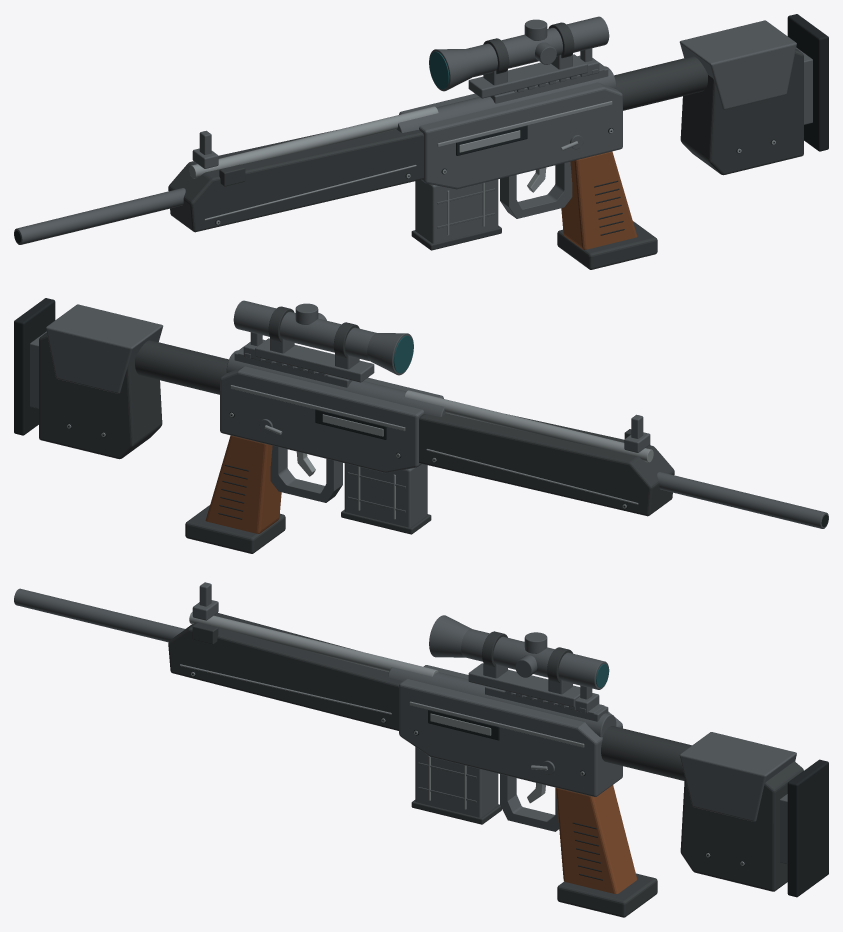
File: psg1.glb
3 renders of one model, top to bottom at view 1: azimuth 30°, elevation 25°; view 2: azimuth 150°, elevation 25°; view 3: azimuth 330°, elevation 25°, orthographic.
Visible parts, largest first — view 1: part_stock_surfaces, part_body_surfaces, part_handguard_surfaces, part_grip_surfaces, part_optic_surfaces, part_details_surfaces, part_magazine_surfaces, part_barrel_surfaces, part_sights_surfaces; view 2: part_stock_surfaces, part_body_surfaces, part_handguard_surfaces, part_grip_surfaces, part_optic_surfaces, part_details_surfaces, part_magazine_surfaces, part_barrel_surfaces, part_sights_surfaces; view 3: part_stock_surfaces, part_body_surfaces, part_handguard_surfaces, part_grip_surfaces, part_optic_surfaces, part_details_surfaces, part_magazine_surfaces, part_barrel_surfaces, part_sights_surfaces.
Part boxes in pixels (box(x1,y1,x2,y2)): part_stock_surfaces: box(614, 14, 828, 175); part_body_surfaces: box(396, 66, 622, 189); part_handguard_surfaces: box(168, 129, 423, 232); part_grip_surfaces: box(500, 151, 657, 269); part_optic_surfaces: box(429, 16, 609, 98); part_details_surfaces: box(189, 101, 613, 186); part_magazine_surfaces: box(411, 179, 501, 250); part_barrel_surfaces: box(14, 188, 185, 244); part_sights_surfaces: box(192, 48, 608, 168); part_stock_surfaces: box(14, 298, 228, 459); part_body_surfaces: box(220, 350, 446, 473); part_handguard_surfaces: box(419, 413, 674, 516); part_grip_surfaces: box(185, 435, 342, 553); part_optic_surfaces: box(233, 300, 413, 382); part_details_surfaces: box(229, 385, 653, 462); part_magazine_surfaces: box(341, 463, 431, 534); part_barrel_surfaces: box(657, 472, 828, 528); part_sights_surfaces: box(234, 332, 650, 452); part_stock_surfaces: box(601, 726, 828, 897); part_body_surfaces: box(388, 665, 622, 796); part_handguard_surfaces: box(168, 612, 402, 730); part_grip_surfaces: box(500, 774, 657, 917); part_optic_surfaces: box(429, 615, 609, 707); part_details_surfaces: box(189, 612, 585, 775); part_magazine_surfaces: box(411, 747, 501, 824); part_barrel_surfaces: box(14, 588, 185, 642); part_sights_surfaces: box(192, 582, 608, 721).
Size of the model in its own units: 351 by 103 by 25.67.
